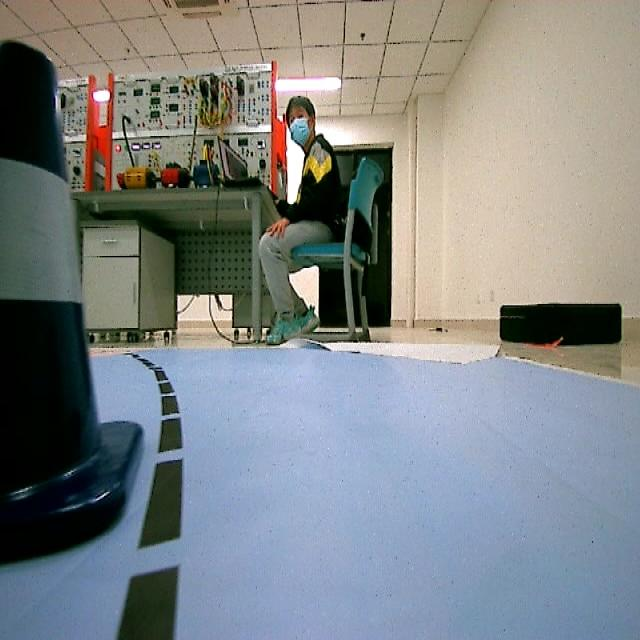obstacle: (0, 36, 107, 552)
